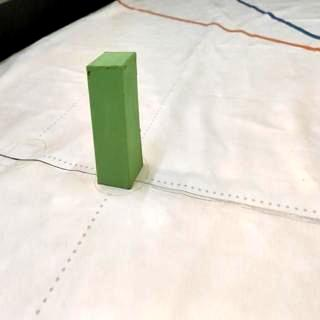greenbox: (86, 50, 144, 190)
